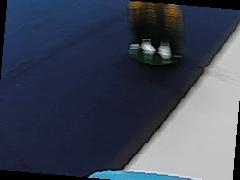corn: (124, 0, 186, 67)
